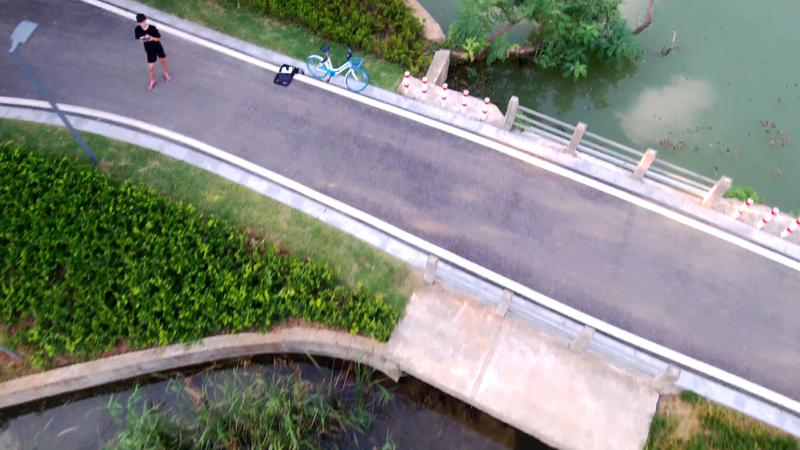passerby: (133, 11, 172, 91)
